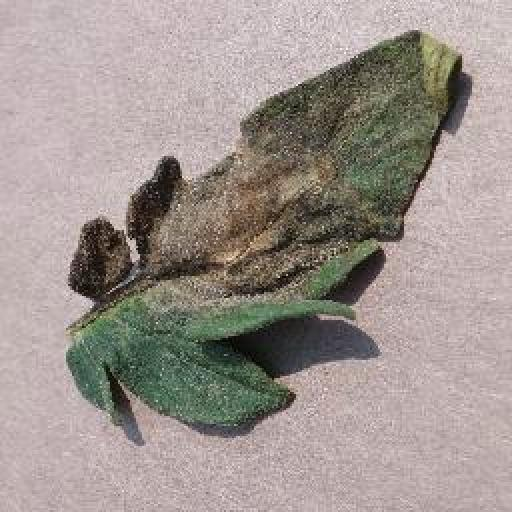disease_tomato: (65, 31, 463, 429)
